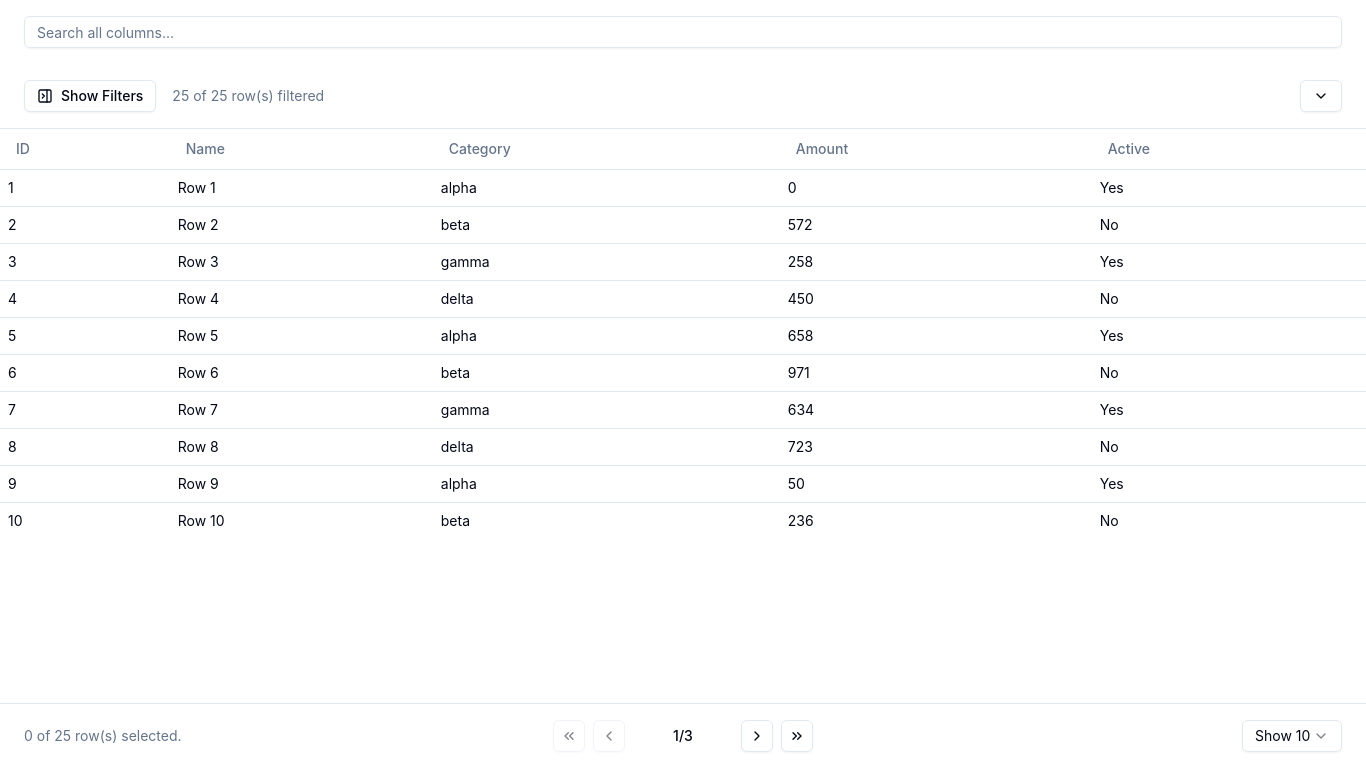
Test case: DataGrid filter hide/show persistence › keeps filter values after closing and reopening sidebar
Click the button "Show Filters" at [90, 96], box left=24, top=80, right=156, bottom=112
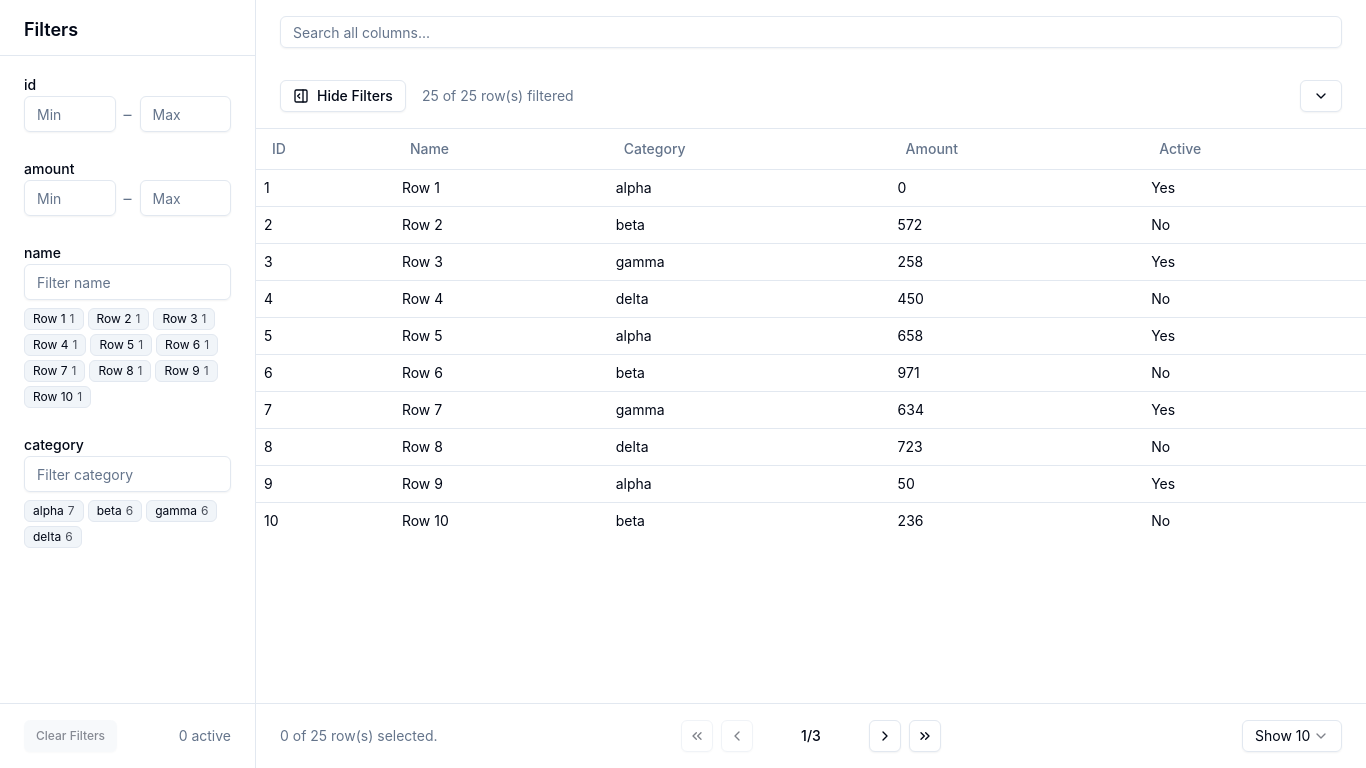
expect the button "Hide Filters" is expanded: met, box left=280, top=80, right=406, bottom=112
Type "Row 3" into the field with placeholder "Filter name" at [128, 282], box left=24, top=264, right=231, bottom=300
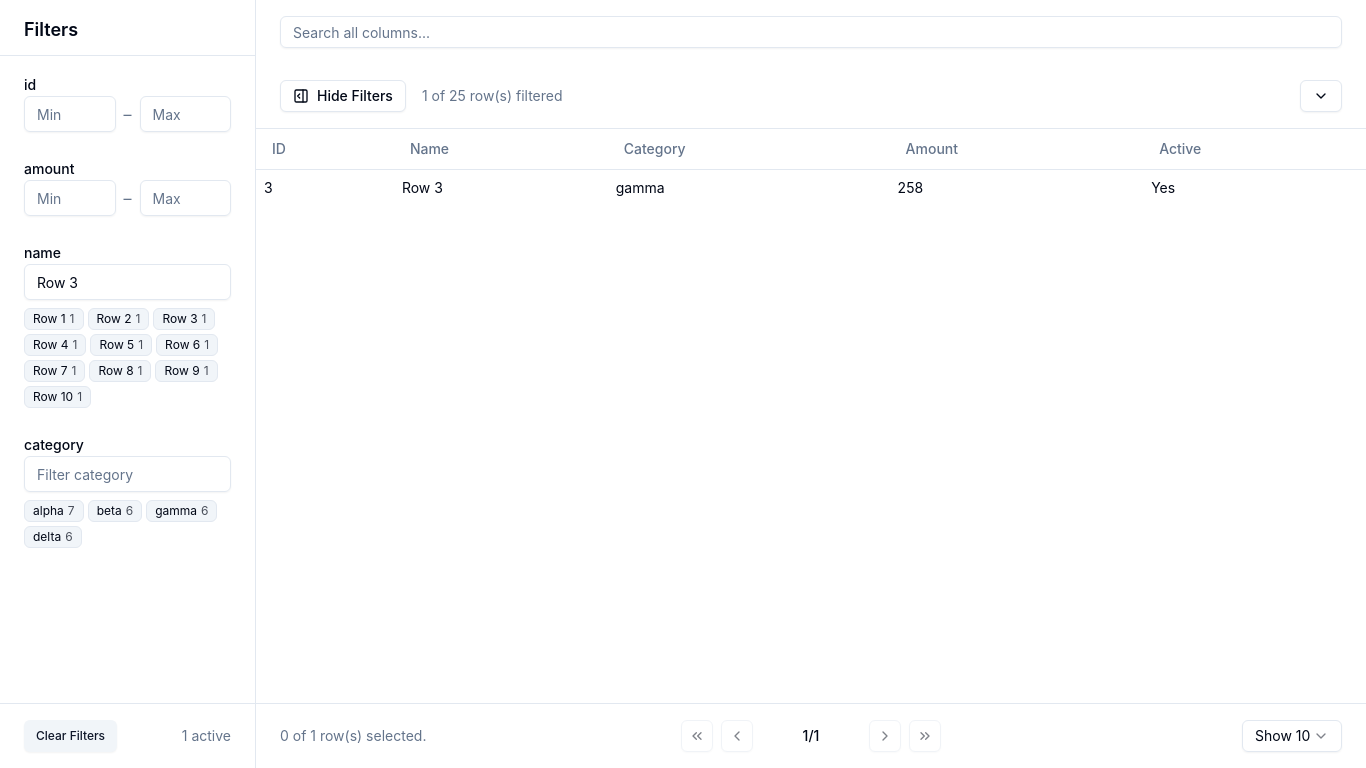
Click the button "Hide Filters" at [343, 96], box left=280, top=80, right=406, bottom=112
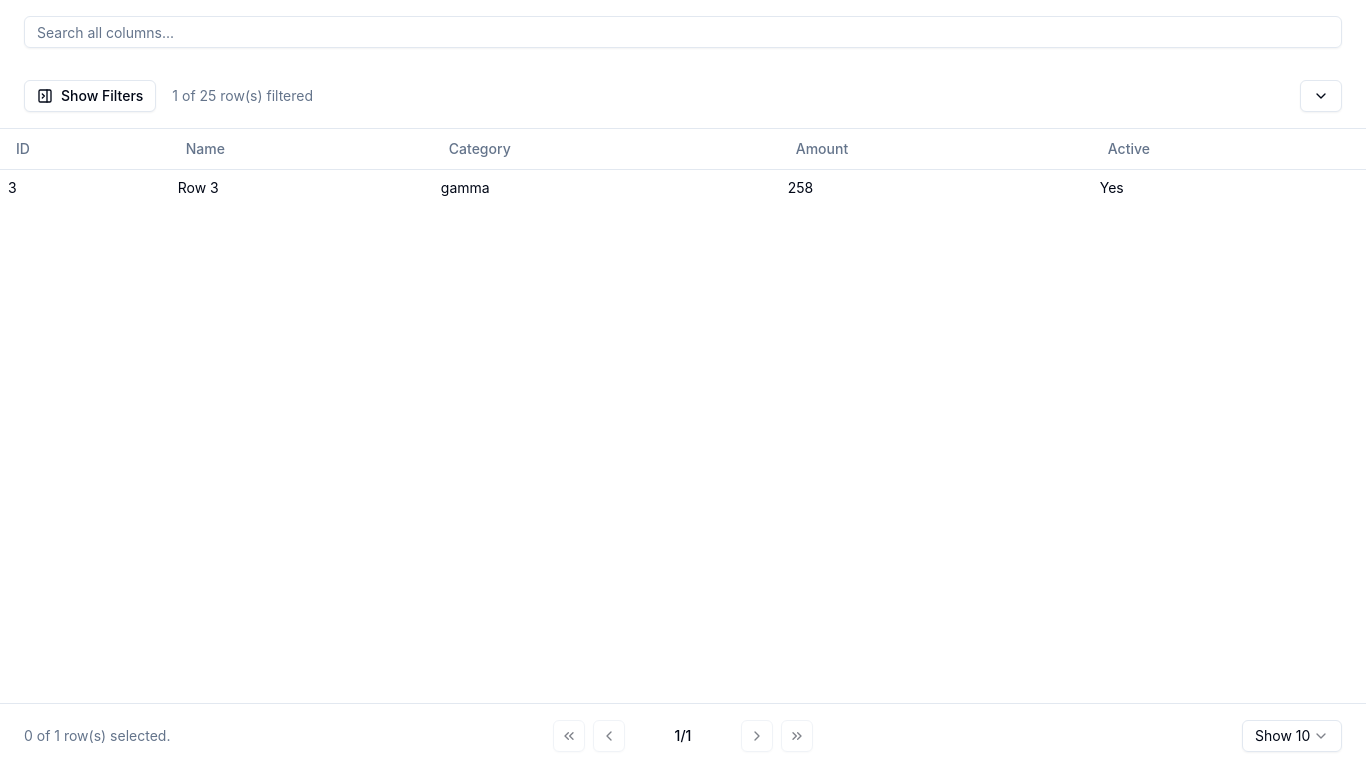
Click the button "Show Filters" at [90, 96], box left=24, top=80, right=156, bottom=112
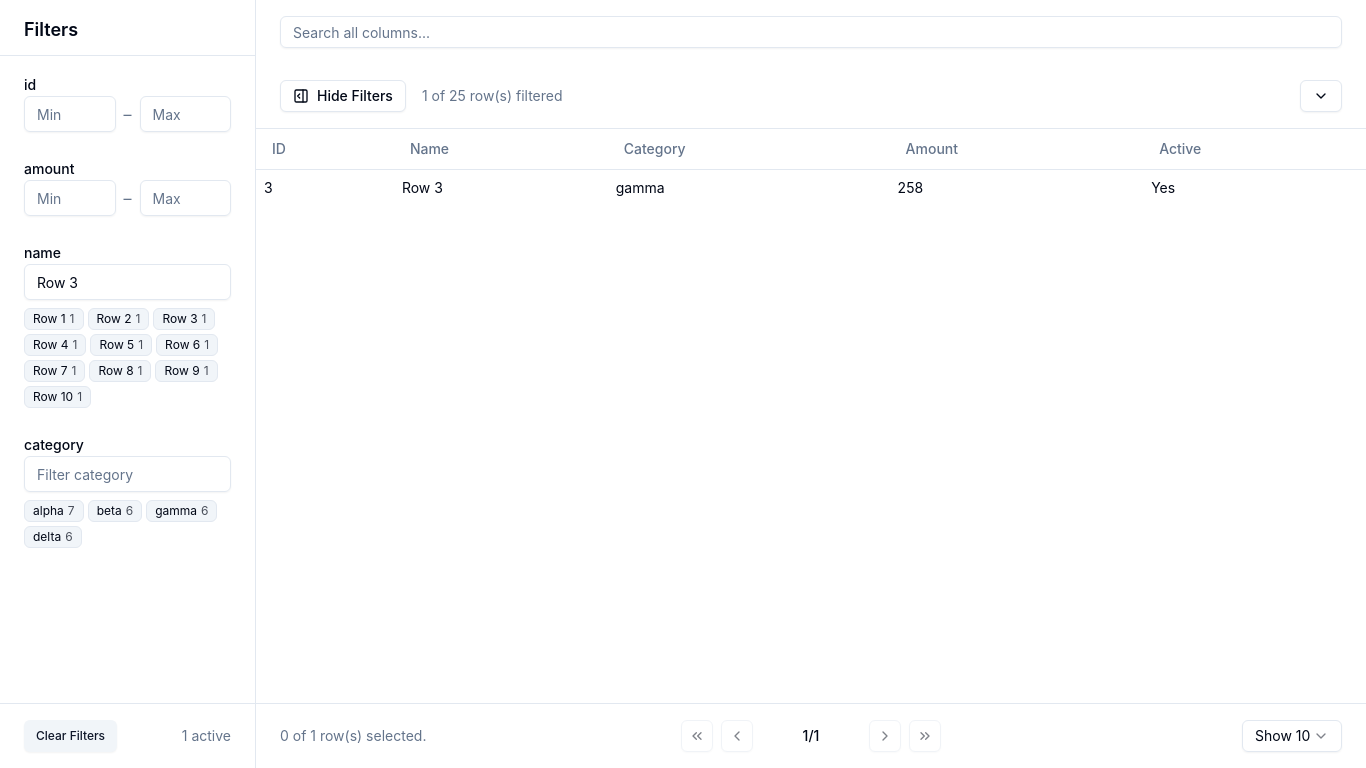
expect the field with placeholder "Filter name" holds "Row 3": met, box left=24, top=264, right=231, bottom=300
